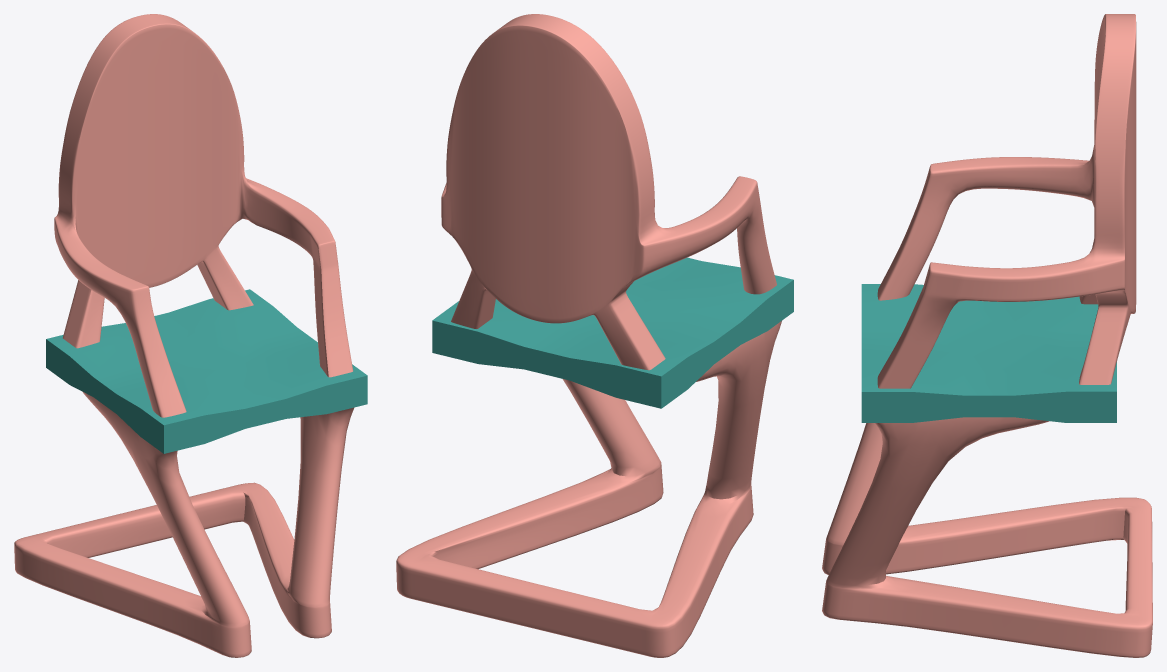
3 renders of one model, left to right at view 1: azimuth 30°, elevation 25°; view 2: azimuth 150°, elevation 25°; view 3: azimuth 270°, elevation 25°, orthographic. The views are drawn at different scales.
Parts seen in each view (by area): view 1: split_parent_1, Object_2; view 2: split_parent_1, Object_2; view 3: split_parent_1, Object_2.
Boxes of the visible parts, x1,y1,x2,y2 form: split_parent_1: (14, 14, 354, 657); Object_2: (46, 289, 367, 453); split_parent_1: (396, 14, 781, 657); Object_2: (432, 257, 793, 408); split_parent_1: (822, 14, 1152, 657); Object_2: (861, 284, 1116, 422).
Bounding box in the file's own units: 0.4859 × 1 × 0.5228.
